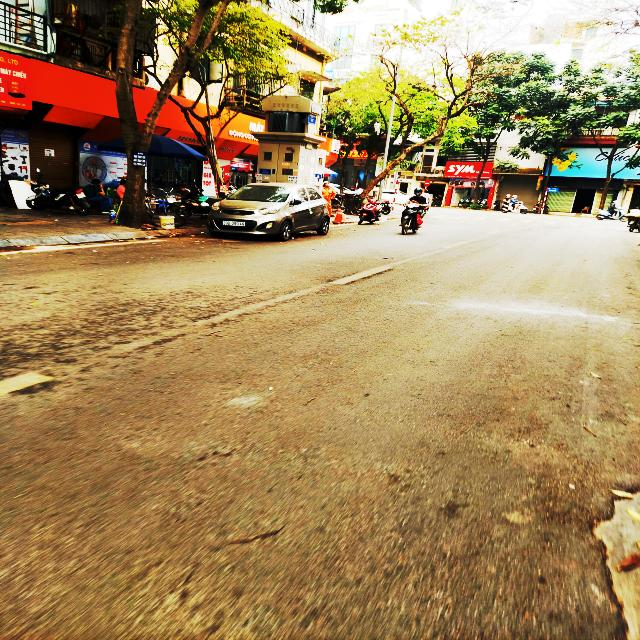license_plate: (223, 221, 247, 228)
